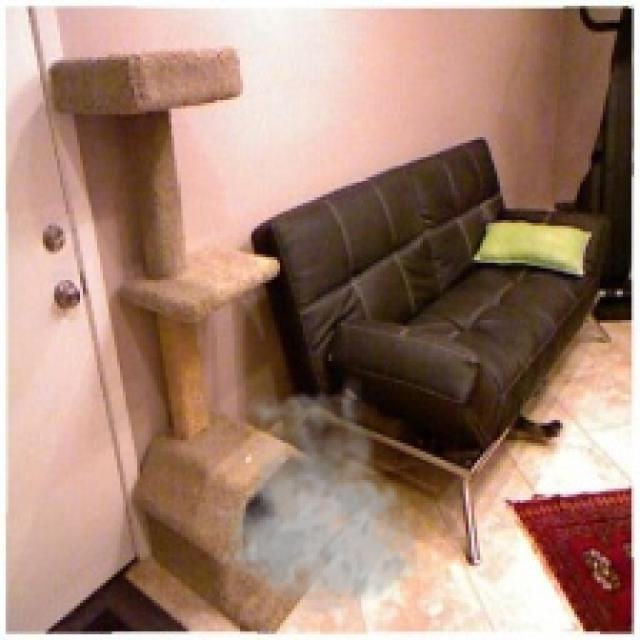smoke: (208, 374, 428, 617)
